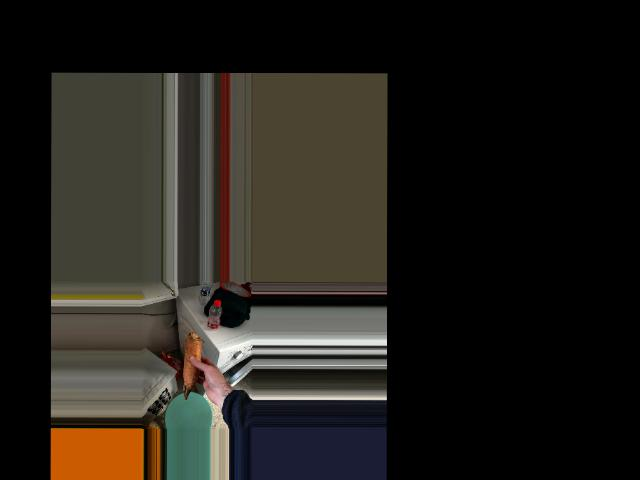sweet_potato: (178, 328, 206, 400)
